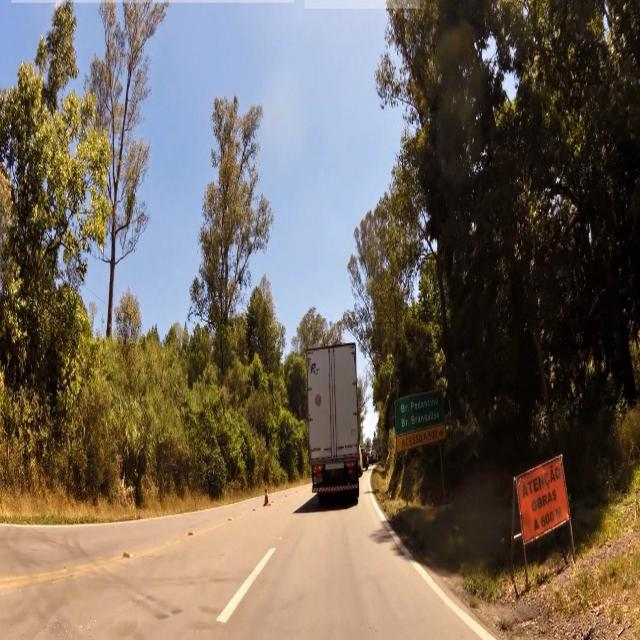I-4: (394, 390, 444, 422)
